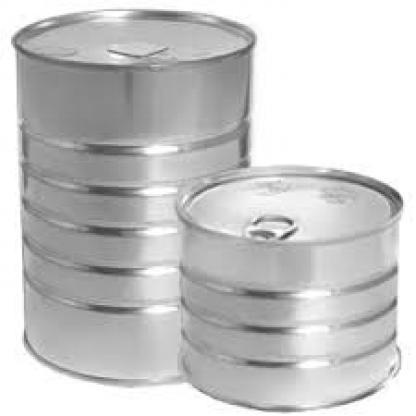trash: (13, 10, 254, 380), (177, 166, 401, 408)
